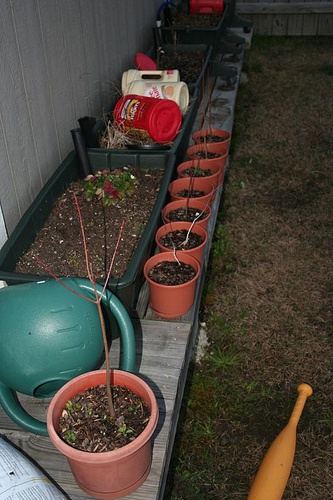flowerpot: (43, 366, 165, 500), (144, 254, 202, 321), (152, 222, 210, 254), (159, 201, 213, 224), (167, 177, 218, 198), (175, 162, 223, 179), (186, 145, 232, 162), (194, 130, 231, 143)
